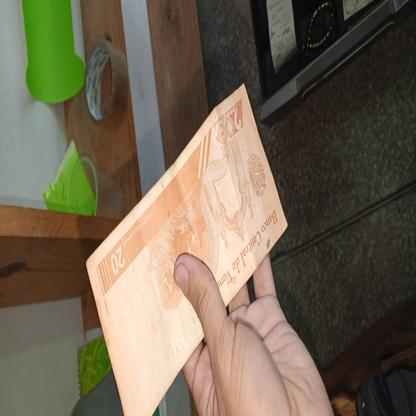twenty-back-vef: (84, 83, 288, 416)
